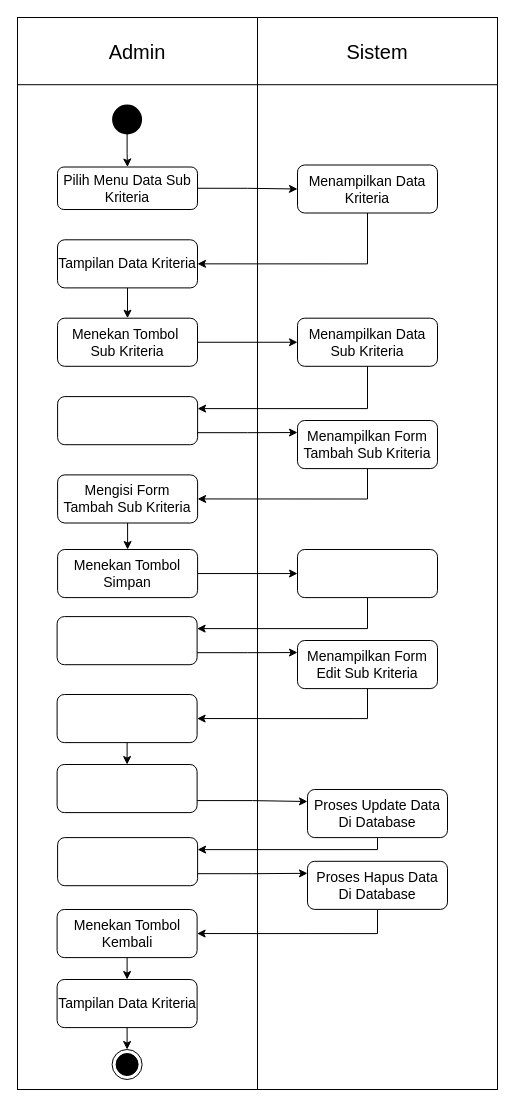
The diagram is 515 pixels wide and 1108 high, and some of its shapes have lost their labels. The shapes that lost their labels are listed below. From the top down, each one's centre as x and y in pixels, then its label:
point 127,420: Menekan Tombol Tambah Sub Kriteria
point 367,573: Proses Penyimpanan Data Ke Database
point 126,640: Menekan Tombol Edit
point 126,718: Melakukan Proses Edit Data Sub Kriteria
point 126,788: Menekan Tombol Update
point 127,861: Menekan Tombol Hapus
